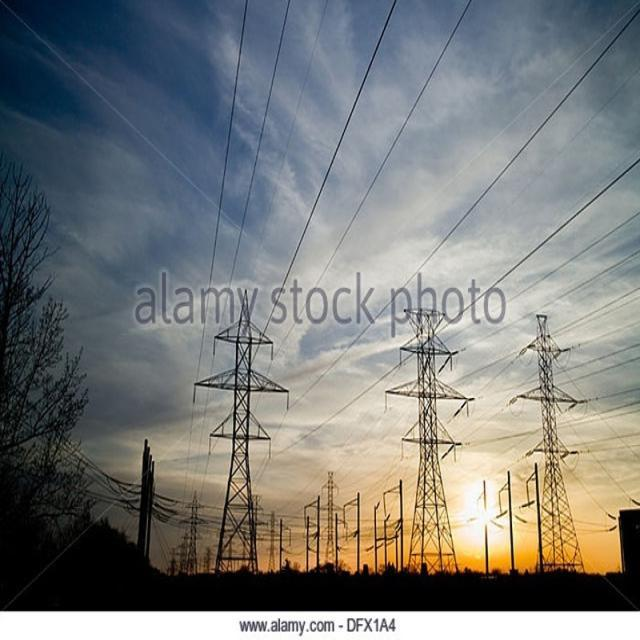non-critical vegetation: (196, 298, 284, 569), (382, 306, 468, 574), (510, 308, 598, 562)
